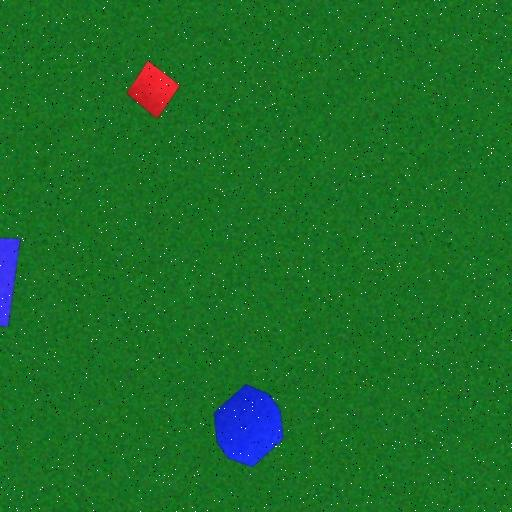RED_SQUARE: (126, 60, 180, 120)
